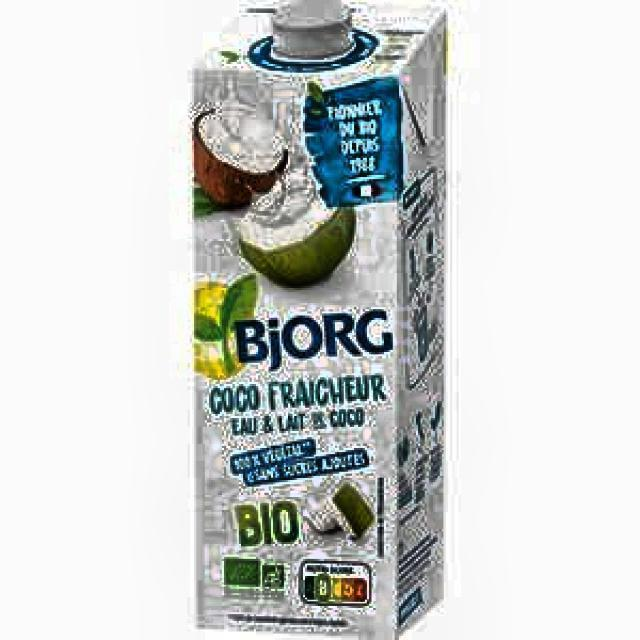cardboard: (188, 0, 448, 638)
